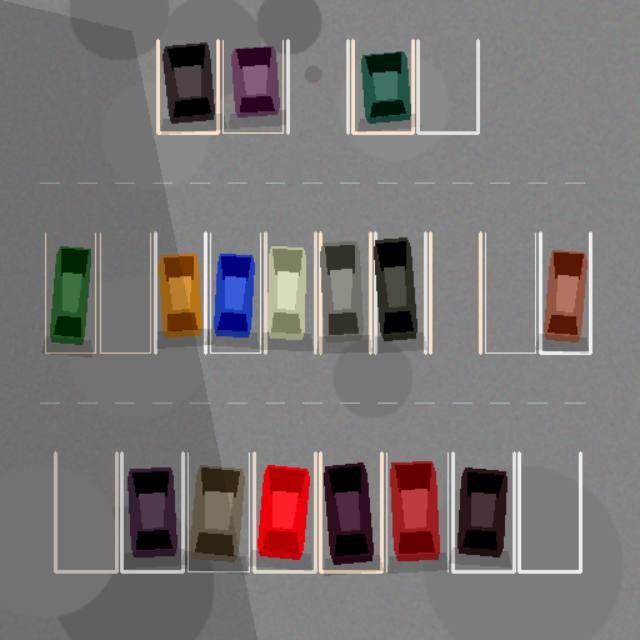space-empty: (55, 453, 116, 571), (519, 453, 580, 571), (100, 232, 150, 352), (430, 232, 480, 352), (485, 232, 535, 352), (288, 40, 348, 133), (418, 40, 478, 133)
space-occupied: (121, 453, 183, 571), (187, 453, 249, 571), (254, 453, 315, 571), (320, 453, 381, 571), (386, 453, 447, 571), (453, 453, 514, 571), (45, 232, 95, 352), (155, 232, 205, 352), (210, 232, 260, 352), (265, 232, 315, 352), (320, 232, 370, 352), (375, 232, 425, 352), (540, 232, 590, 352), (158, 40, 218, 133), (222, 40, 282, 133), (352, 40, 412, 133)
